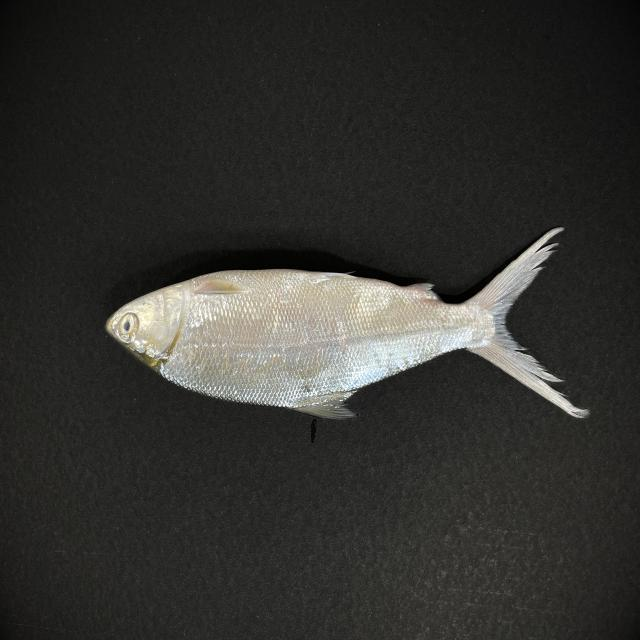380 g: (104, 226, 590, 424)
